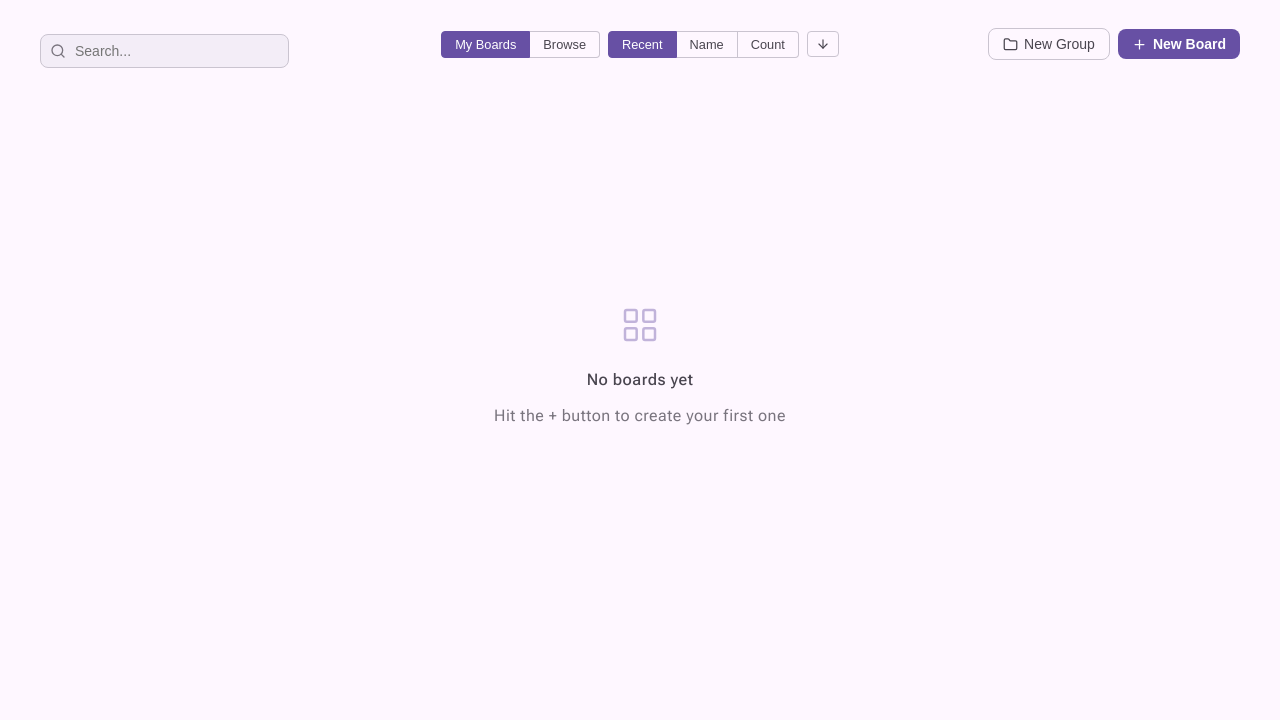
BoardSelector — member search Firestore query › shows a member search input inside the Create New Board modal when visibility is private
This screenshot has width=1280, height=720.
What coordinates should you click on to do the following:
click the button "New Board"
I would click on:
 (1179, 44)
Its box is top-left (1118, 29), bottom-right (1240, 59).
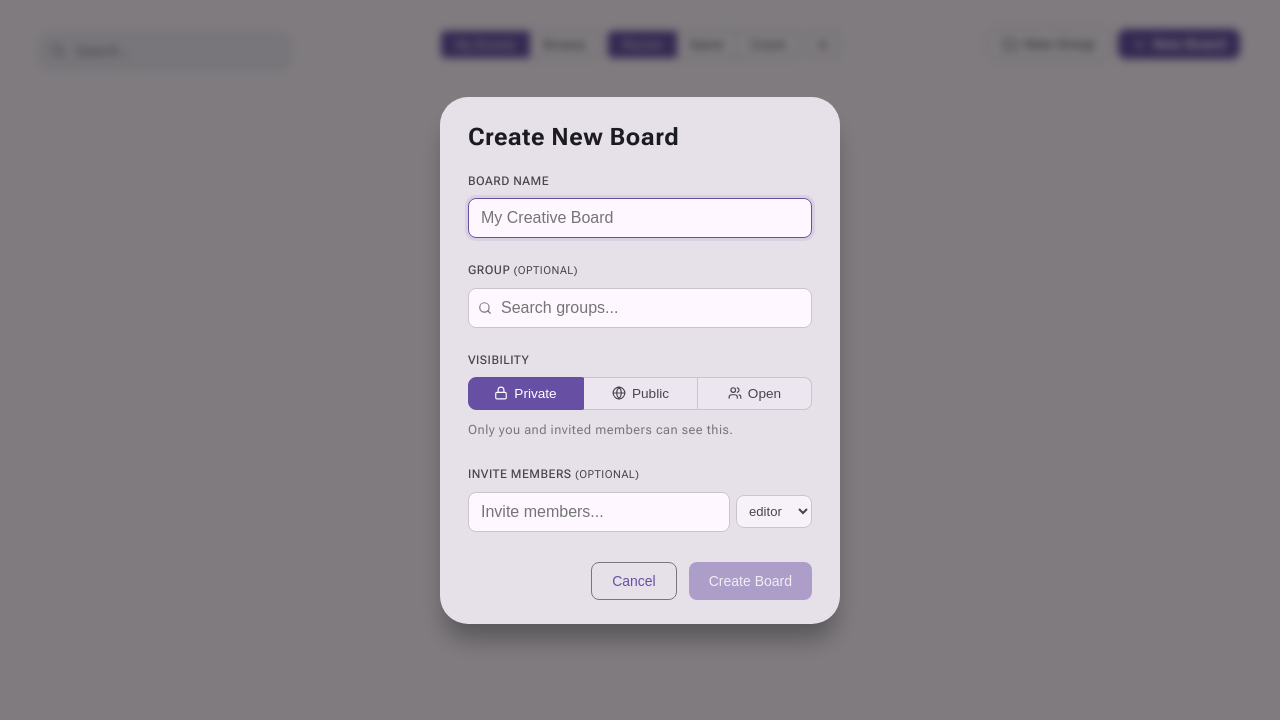
Check: the field with placeholder "Invite members..." is shown, box top-left (468, 492), bottom-right (730, 532)
